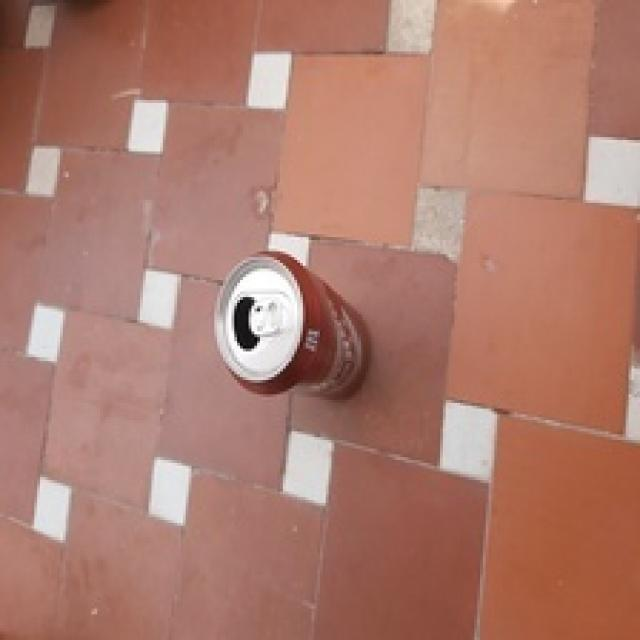recyclable: (212, 250, 370, 402)
